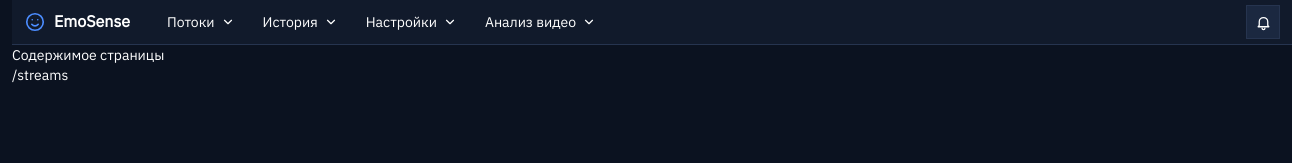
Test: Toolbar menus › choosing an item closes the menu and navigates
What coordinates should you click on to do the following:
click the button "История"
I would click on:
 (300, 22)
Its box is [250,4,351,40].
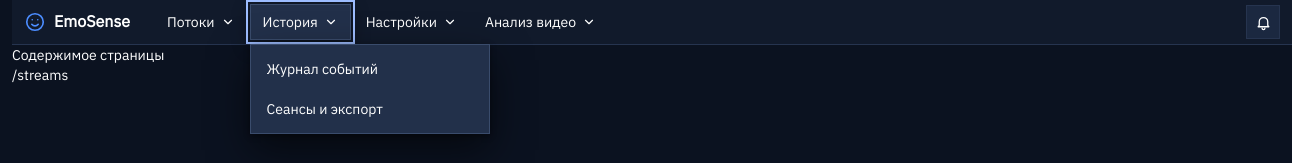
What coordinates should you click on to do the following:
click the menu item "Сеансы и экспорт"
I would click on:
 (370, 109)
Its box is [255,89,485,129].
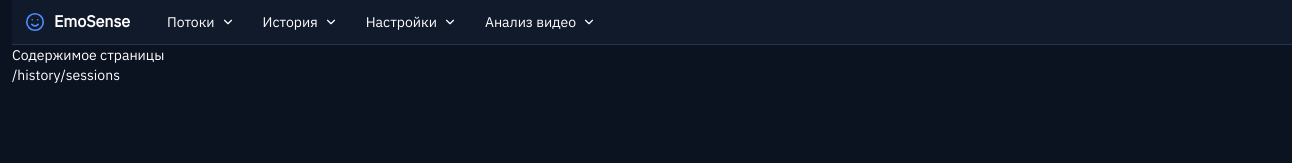
Result: the menu is gone
Result: the text with test id "where" reads "/history/sessions" at [12,66,120,84]
What coordinates should you click on to do the following:
click the button "Анализ видео"
I would click on:
 (540, 22)
Its box is [472,4,609,40].
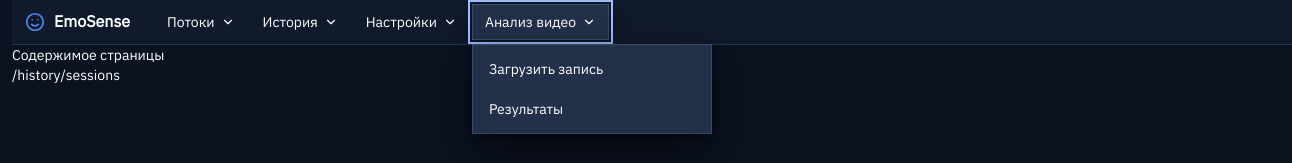
What coordinates should you click on to do the following:
click the menu item "Загрузить запись"
I would click on:
 (592, 69)
Its box is [477,49,707,89].
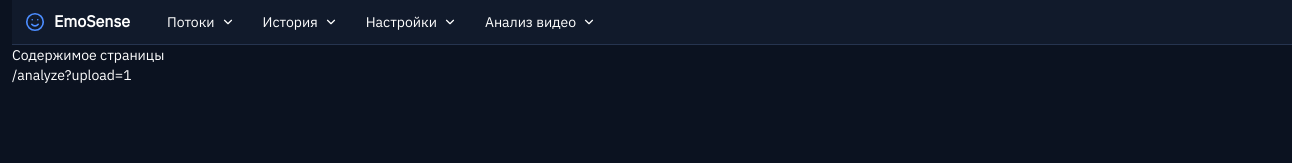
Result: the menu is gone
Result: the text with test id "where" reads "/analyze?upload=1" at [12,66,132,84]
